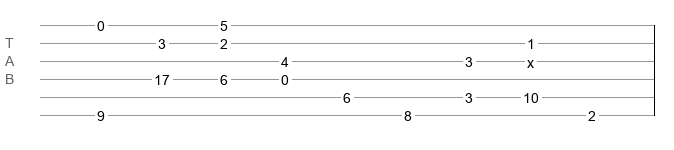0: (97, 18, 105, 28), (281, 72, 289, 82)
1: (527, 36, 535, 46)
10: (523, 90, 539, 100)
17: (154, 72, 170, 82)
2: (220, 36, 228, 46), (588, 108, 596, 118)
3: (158, 36, 166, 46), (465, 90, 473, 100), (465, 54, 473, 64)
4: (281, 54, 289, 64)
5: (220, 18, 228, 28)
6: (220, 72, 228, 82), (343, 90, 351, 100)
8: (404, 108, 412, 118)
9: (97, 108, 105, 118)
x: (527, 55, 534, 63)
